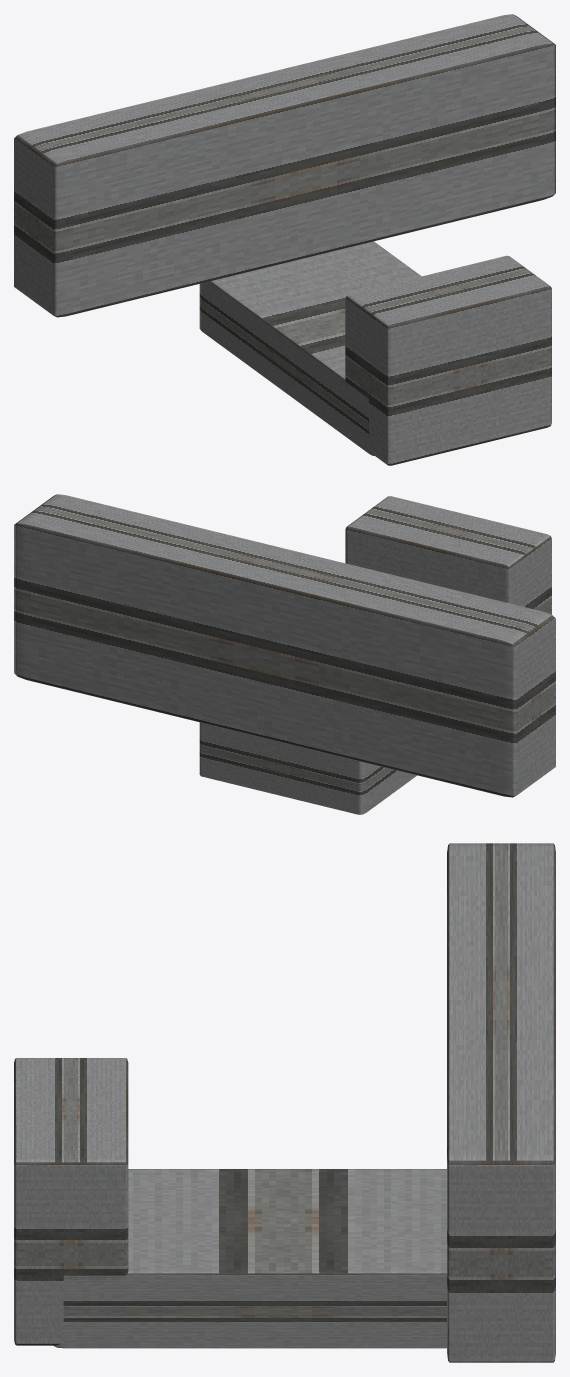
The model's file is lever.glb.
The picture shows the model from 3 angles, top to bottom: view 1: azimuth 30°, elevation 25°; view 2: azimuth 150°, elevation 25°; view 3: azimuth 270°, elevation 25°; orthographic projection. The views are drawn at different scales.
Parts seen in each view (by area): view 1: foot, lip, arm; view 2: foot, lip, arm; view 3: arm, foot, lip.
Part boxes in pixels (box(x1,y1,x2,y2)): foot: box(14, 14, 555, 317); lip: box(345, 255, 551, 465); arm: box(199, 241, 421, 455); foot: box(14, 494, 555, 797); lip: box(345, 496, 551, 614); arm: box(199, 722, 416, 814); arm: box(53, 1169, 446, 1348); foot: box(447, 843, 555, 1362); lip: box(14, 1058, 128, 1345).
Bounding box in the file's own units: 0.091 × 0.039 × 0.0647.
Materials: 1 (1 with a texture image).
